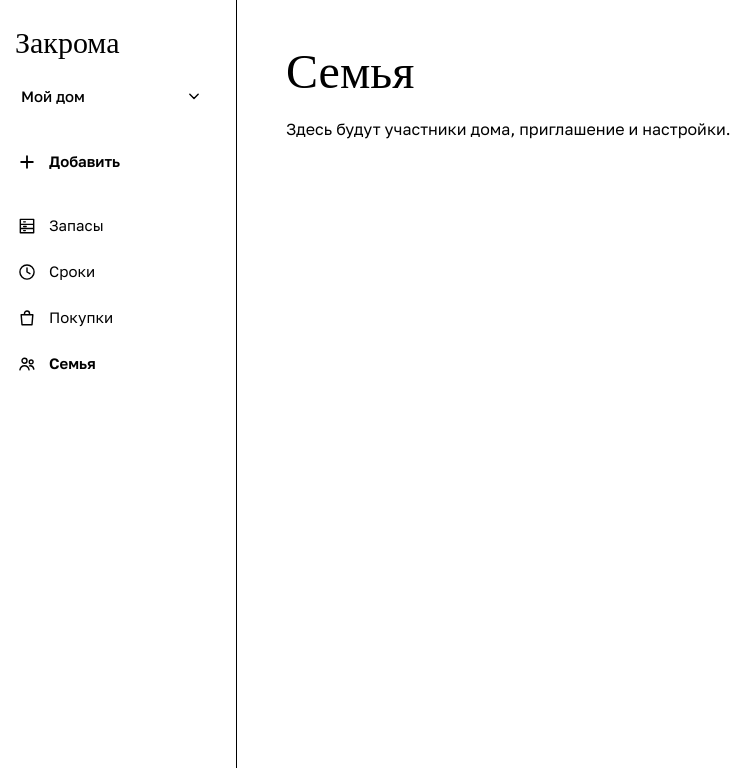
Test: app shell (AC-3) › opens «Добавить» and marks it as current
What coordinates should you click on to do the following:
click the link "Добавить"
I would click on:
 (69, 162)
Its box is [17, 152, 120, 172].
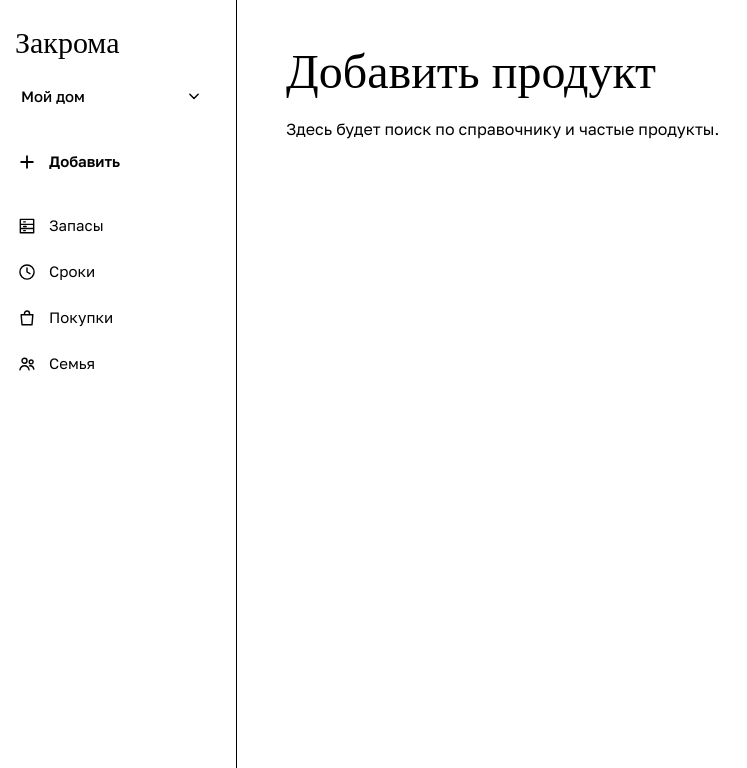
Result: the heading "Добавить продукт" is shown at [286, 45, 656, 98]
